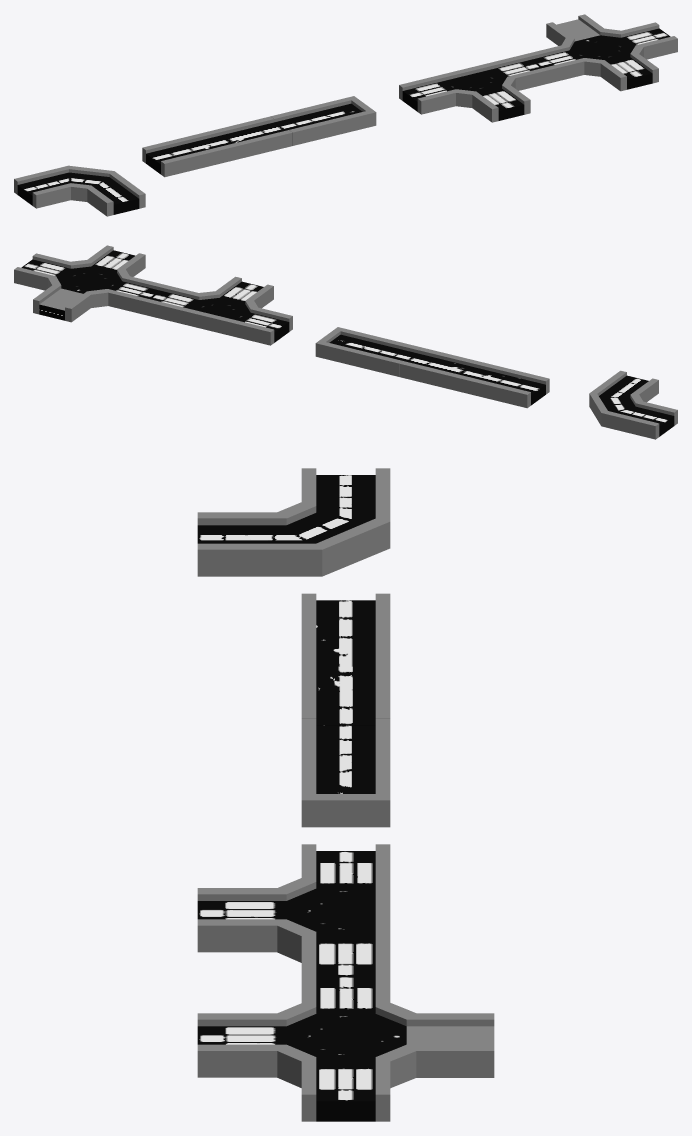
The model's file is roads.obj.
3 views of the same model, one above another, from view 1: azimuth 30°, elevation 25°; view 2: azimuth 150°, elevation 25°; view 3: azimuth 270°, elevation 25° (orthographic). The views are drawn at different scales.
Parts seen in each view (by area): view 1: road_cross_4_Cube.007, road_cross_3_Cube.003, road_straight_Cube.004, road_turn_Cube.006, road_stub_Cube.005; view 2: road_cross_4_Cube.007, road_cross_3_Cube.003, road_straight_Cube.004, road_turn_Cube.006, road_stub_Cube.005; view 3: road_cross_4_Cube.007, road_cross_3_Cube.003, road_turn_Cube.006, road_straight_Cube.004, road_stub_Cube.005.
Part boxes in pixels (x1,y1,x2,y2): road_cross_4_Cube.007: [528, 14, 677, 91]; road_cross_3_Cube.003: [399, 53, 549, 122]; road_straight_Cube.004: [142, 116, 292, 177]; road_turn_Cube.006: [14, 165, 145, 216]; road_stub_Cube.005: [271, 96, 376, 145]; road_cross_4_Cube.007: [14, 245, 163, 322]; road_cross_3_Cube.003: [142, 276, 292, 345]; road_straight_Cube.004: [399, 347, 549, 408]; road_turn_Cube.006: [589, 370, 677, 439]; road_stub_Cube.005: [315, 327, 420, 376]; road_cross_4_Cube.007: [197, 969, 494, 1121]; road_cross_3_Cube.003: [197, 844, 390, 976]; road_turn_Cube.006: [197, 468, 390, 576]; road_straight_Cube.004: [301, 593, 390, 725]; road_stub_Cube.005: [301, 719, 390, 827].
Bounding box in the file's own units: 0.1 × 0.002 × 0.02.
